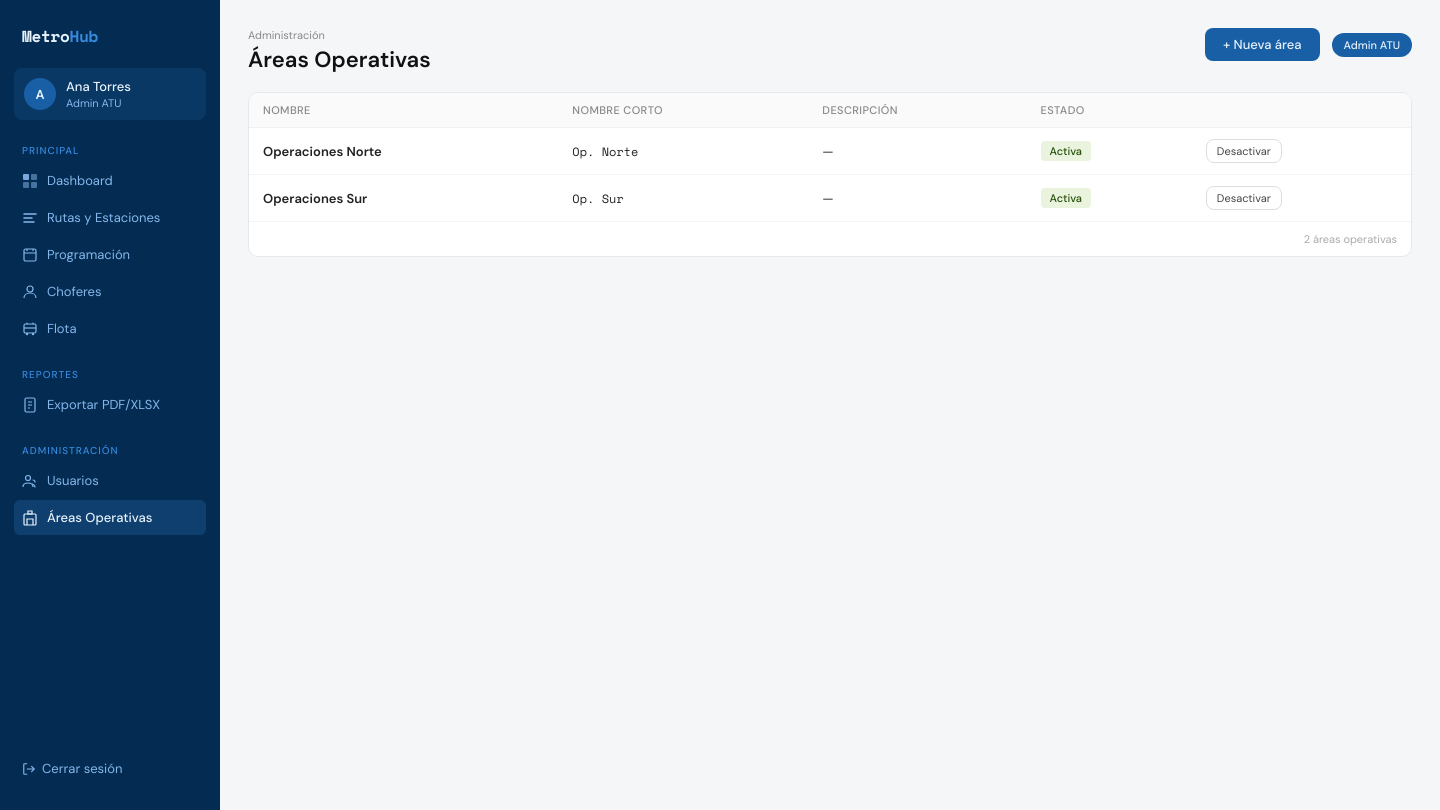
Test: Areas (RF08) › desactiva un área con el toggle
The width and height of the screenshot is (1440, 810).
Check: the text "Operaciones Norte" is shown, box [263,142,382,160]
What coordinates should you click on to do the following:
click the button "Desactivar" in the row of "Operaciones Norte"
I would click on:
 (1244, 151)
Its box is [1206,139,1282,163].
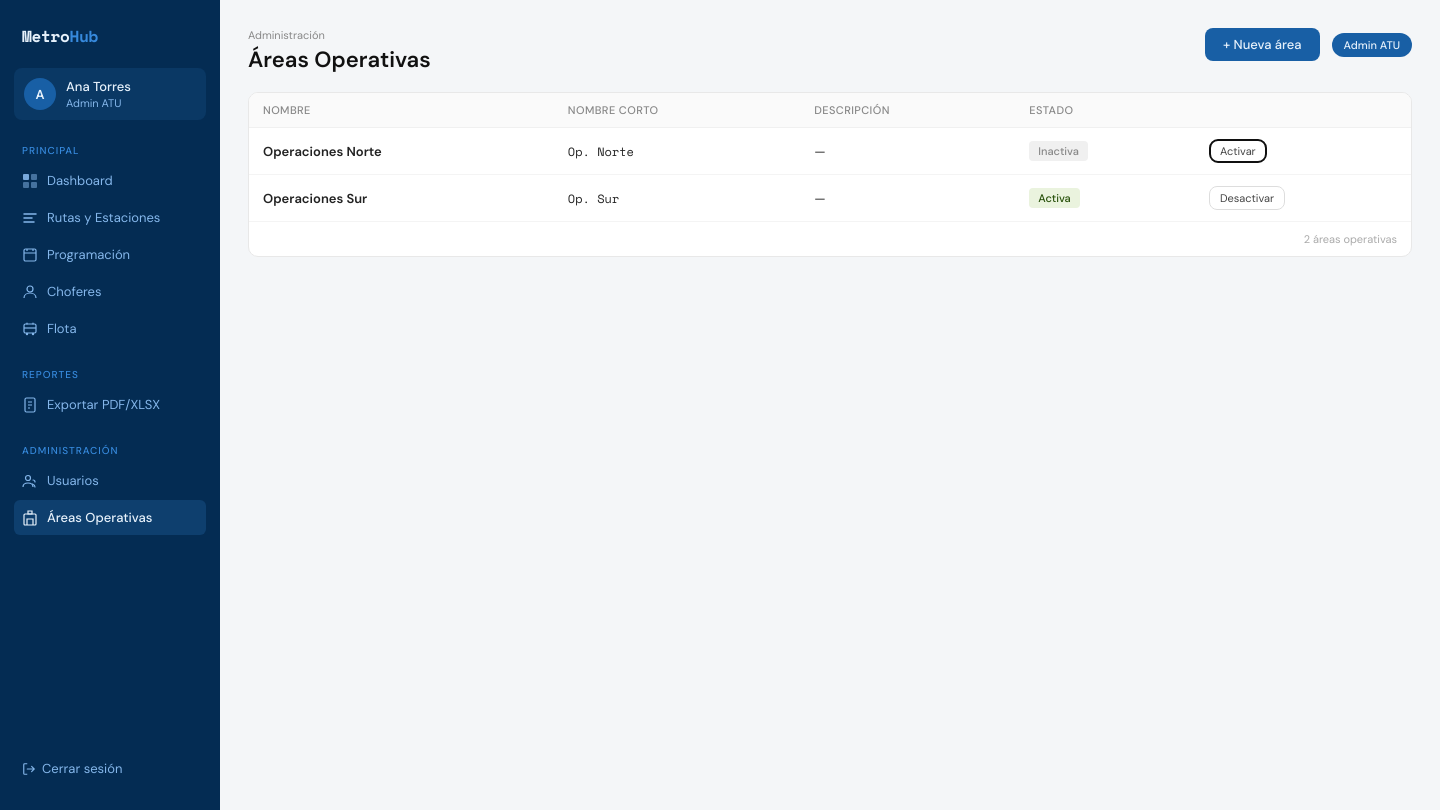
Check: the button "Activar" is shown, box [1209,139,1267,163]
Check: the text "Inactiva" is shown, box [1038,144,1079,158]
